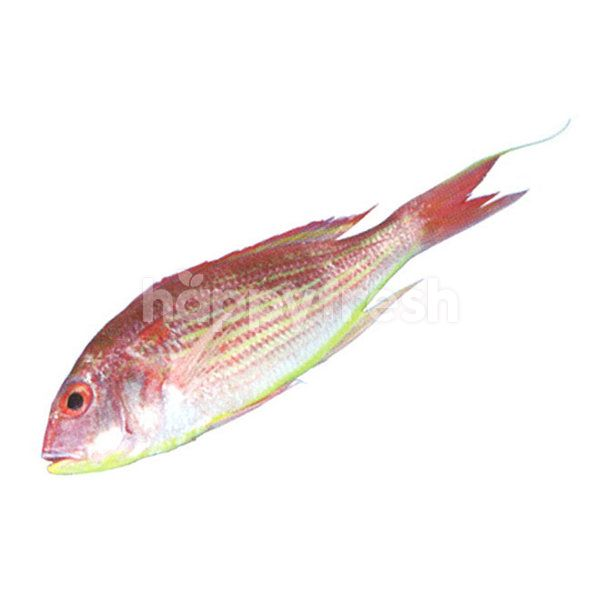Ikan Kerisi: (26, 125, 530, 483)
